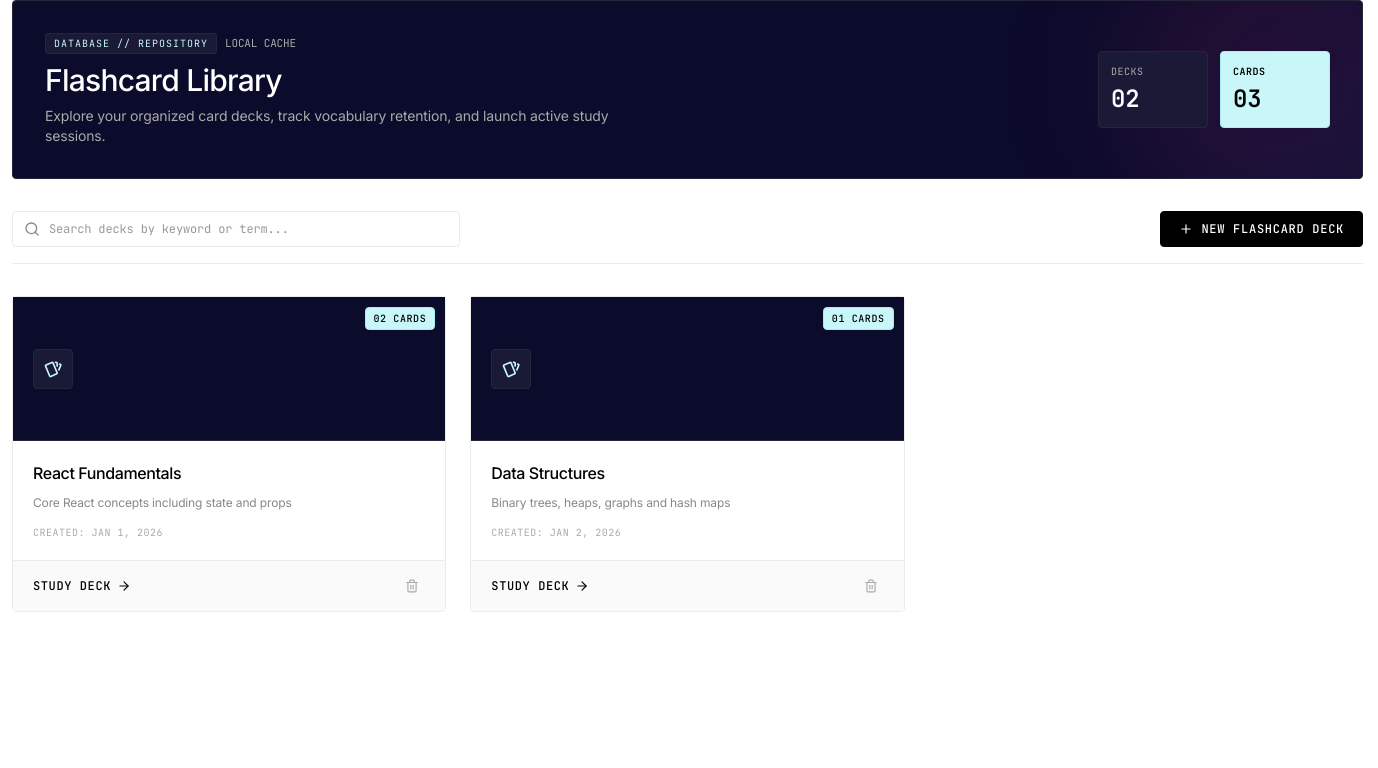
Test: MyFlashcards component › filters decks by term keyword match
The image size is (1378, 768).
Type "useState" into the field with placeholder "Search decks by keyword or term...".
click(236, 229); type("useState")  # box [12,211,460,247]
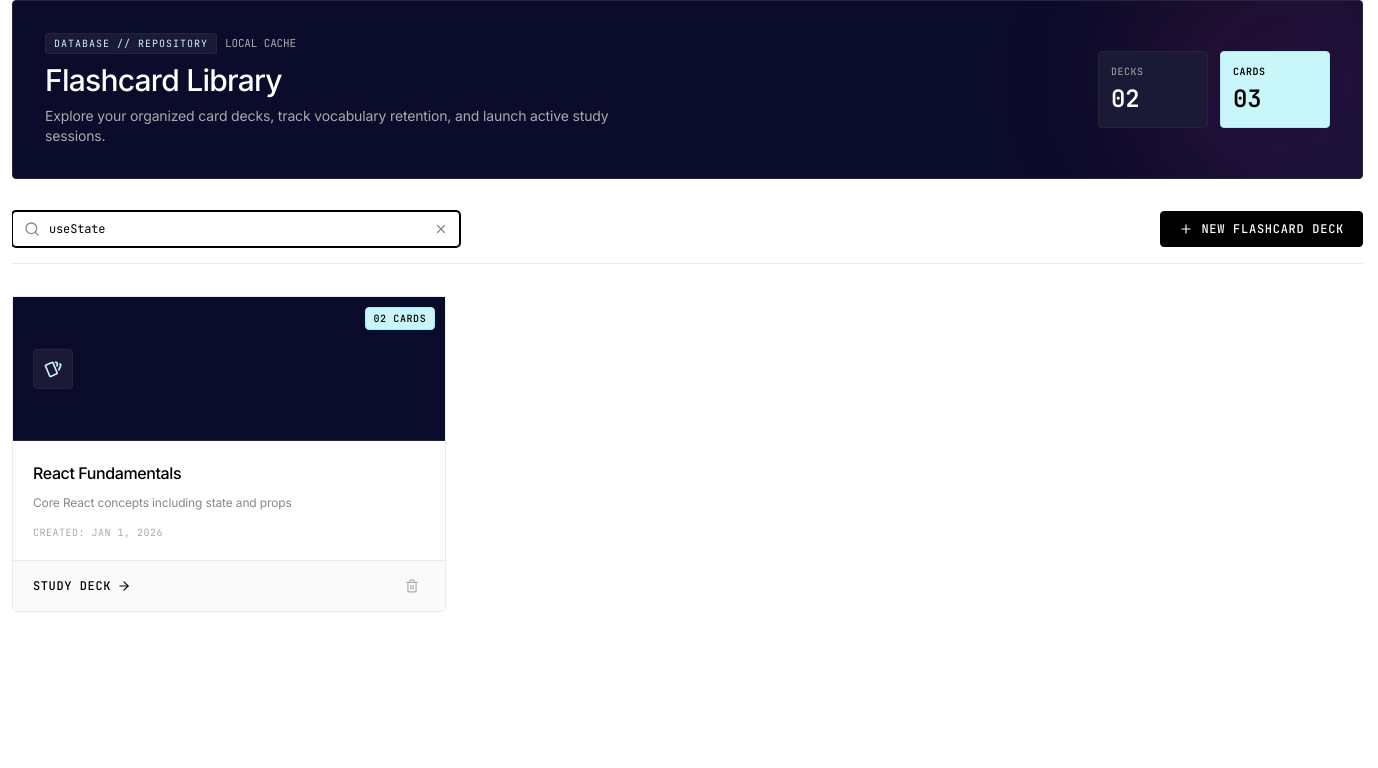
expect the link "React Fundamentals" is shown: met, box [33,463,181,483]
expect the link "Data Structures" is gone: met
